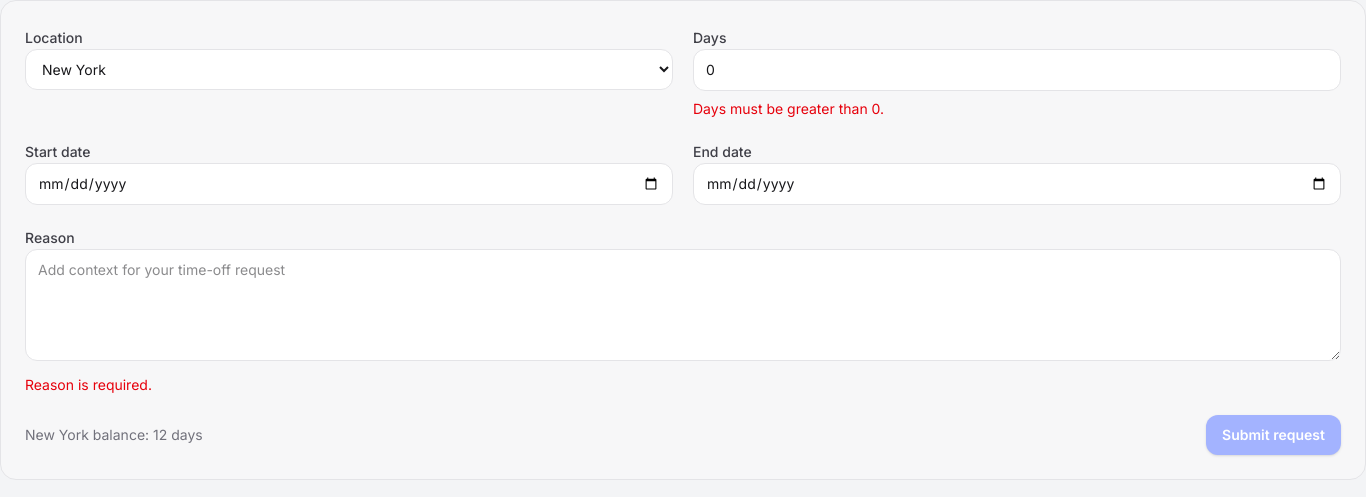
Scenario: RequestForm › calculates days automatically from date range
Step 1. Type "2026-05-01" into the date field labelled "Start date" → (349,184), box [25, 163, 673, 205]
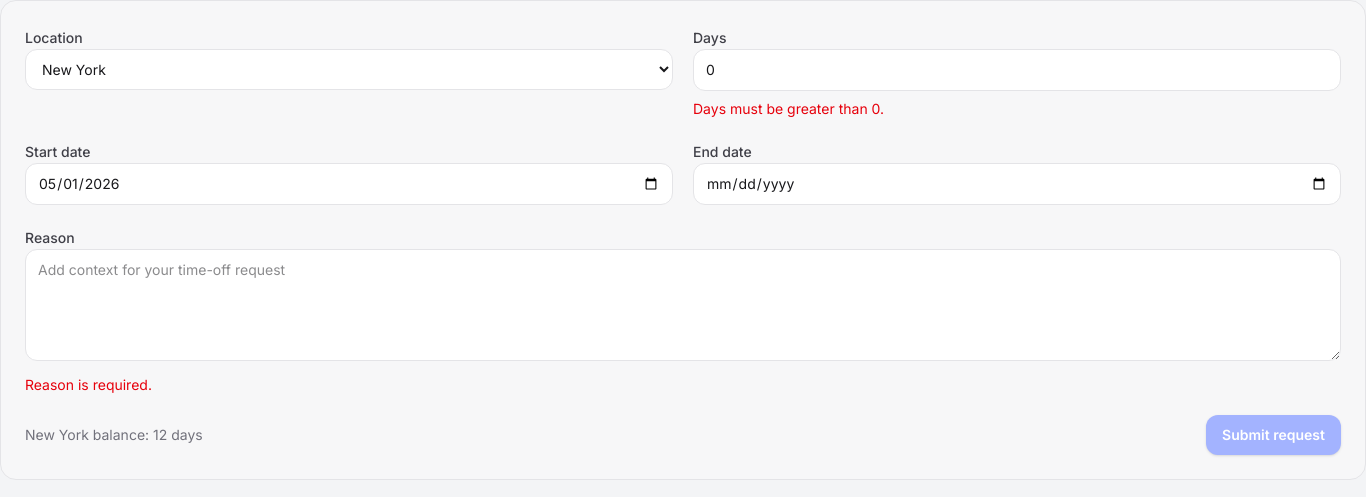
Step 2. Type "2026-05-03" into the date field labelled "End date" → (1017,184), box [693, 163, 1341, 205]
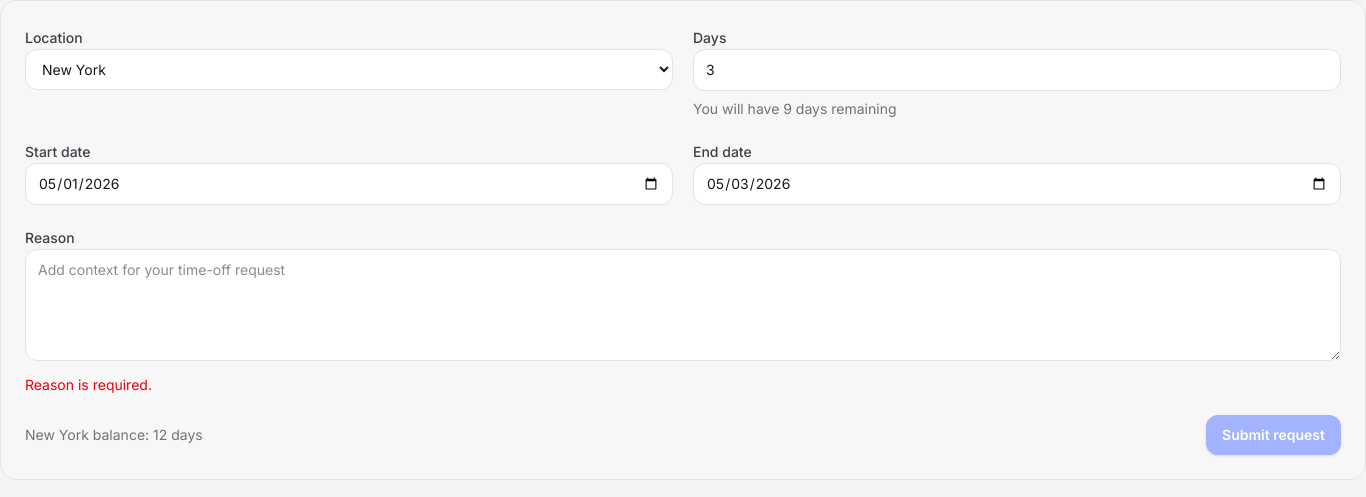
Result: the number field labelled "Days" holds "3" at [693, 49, 1341, 91]
